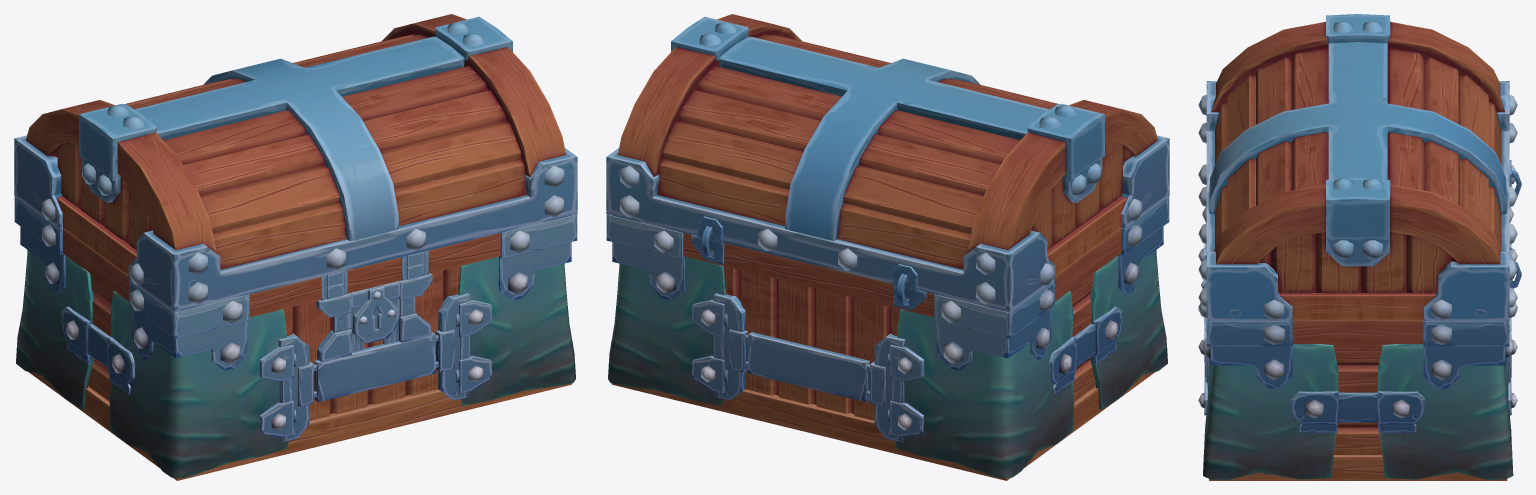
Rendered from PRP_Chest.glb.
3 views of the same model, side by side, from view 1: azimuth 30°, elevation 25°; view 2: azimuth 150°, elevation 25°; view 3: azimuth 270°, elevation 25° (orthographic). The views are drawn at different scales.
Visible parts, largest first — view 1: Top_01_LP_Top_0, Bottom_01_LP_Bottom_0, Cloth_01_LP_DetailsCloth_0; view 2: Top_01_LP_Top_0, Bottom_01_LP_Bottom_0, Cloth_01_LP_DetailsCloth_0; view 3: Top_01_LP_Top_0, Cloth_01_LP_DetailsCloth_0, Bottom_01_LP_Bottom_0.
Boxes of the visible parts, left/top/right/bottom form: Top_01_LP_Top_0: left=14, top=14, right=577, bottom=312; Bottom_01_LP_Bottom_0: left=14, top=165, right=577, bottom=480; Cloth_01_LP_DetailsCloth_0: left=16, top=22, right=575, bottom=478; Top_01_LP_Top_0: left=606, top=14, right=1169, bottom=312; Bottom_01_LP_Bottom_0: left=606, top=165, right=1169, bottom=480; Cloth_01_LP_DetailsCloth_0: left=608, top=22, right=1167, bottom=478; Top_01_LP_Top_0: left=1206, top=14, right=1509, bottom=321; Cloth_01_LP_DetailsCloth_0: left=1198, top=21, right=1517, bottom=479; Bottom_01_LP_Bottom_0: left=1204, top=160, right=1521, bottom=480.
Size of the model in its own units: 0.8791 by 0.6139 by 0.6212.
Materials: 3 (3 with a texture image).
